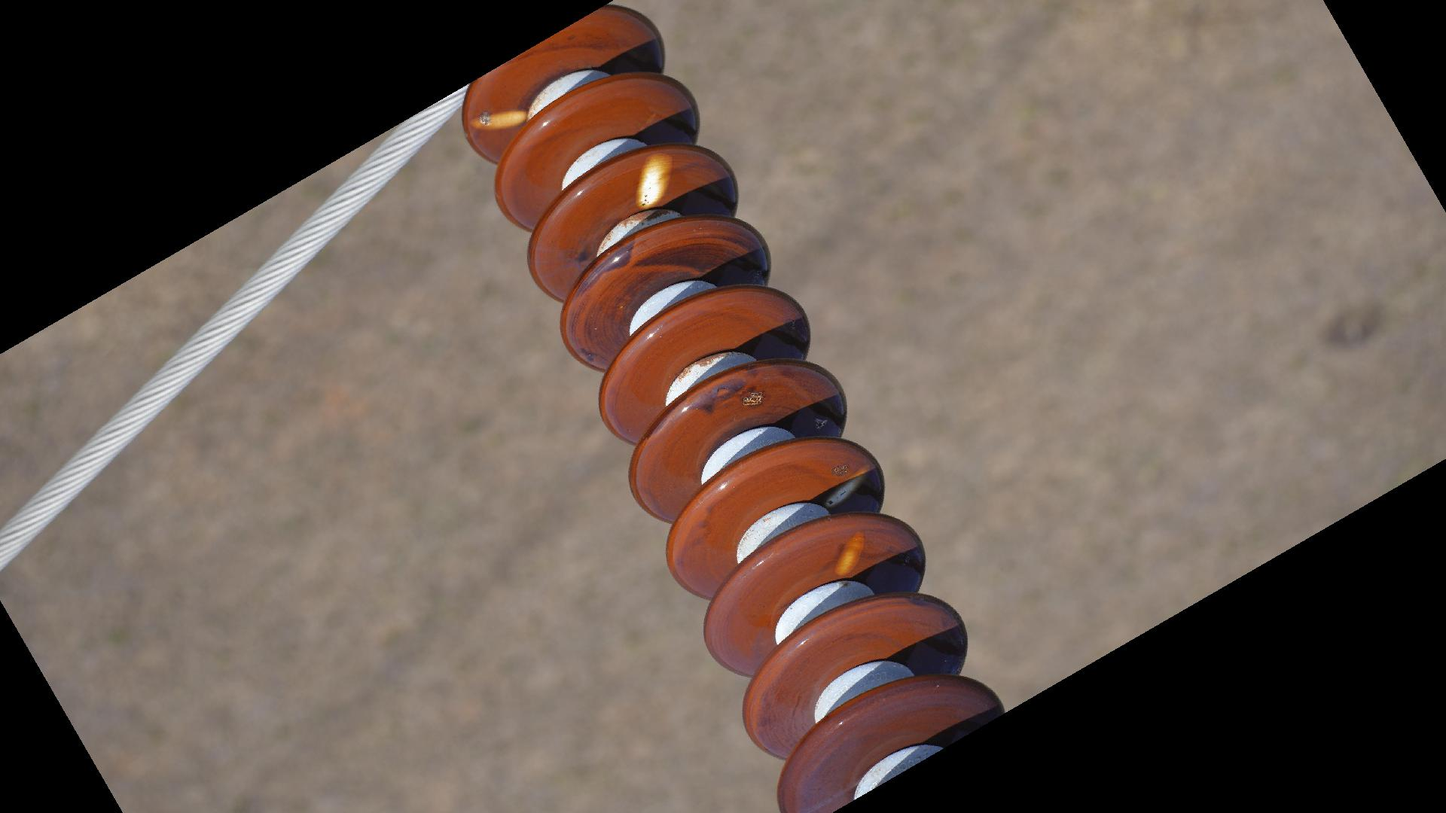insulator: (453, 1, 1009, 813)
insulator_flashover: (633, 148, 676, 211), (822, 462, 870, 509), (831, 528, 868, 578), (467, 105, 529, 133)
